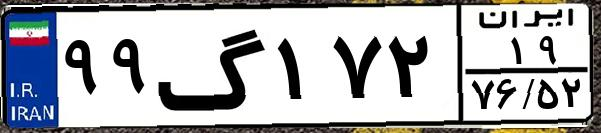1: (270, 28, 330, 110), (508, 27, 537, 80)
2: (385, 28, 445, 110), (560, 70, 590, 125)
5: (535, 70, 560, 125)
6: (495, 70, 520, 125)
7: (330, 28, 385, 110), (470, 70, 495, 125)
9: (57, 26, 110, 100), (110, 28, 156, 98), (537, 27, 568, 80)
گ: (156, 12, 270, 120)
